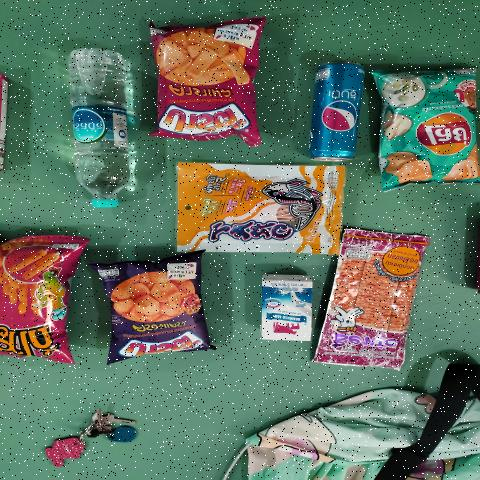bento_red: (318, 234, 425, 367)
crystal: (70, 39, 144, 210)
lay_blue: (379, 77, 480, 184)
party_purple: (111, 255, 197, 360)
party_red: (157, 30, 260, 138)
pepsi_blue: (303, 64, 366, 164)
taro_yellow: (178, 170, 337, 248)
thai_denmark: (262, 277, 313, 344)
